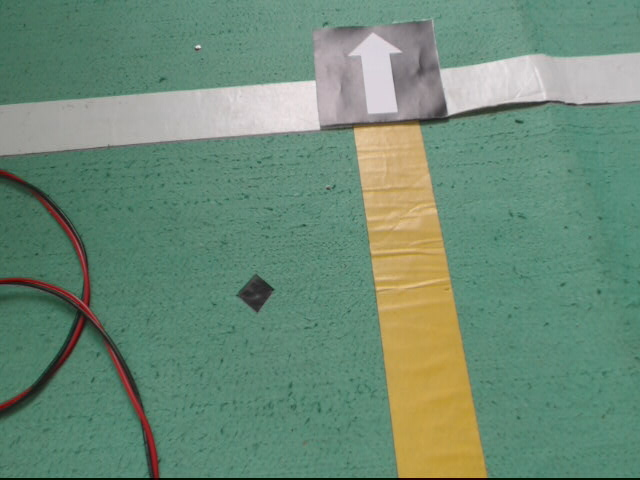straight: (310, 22, 449, 128)
